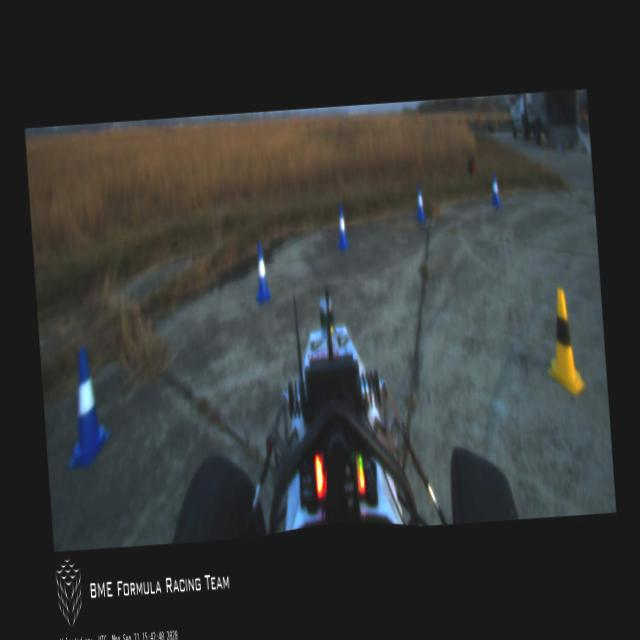blue_cone: (58, 345, 112, 469), (251, 239, 271, 304), (333, 204, 349, 252), (414, 184, 426, 224), (490, 172, 502, 208)
yellow_cone: (540, 284, 586, 399)
